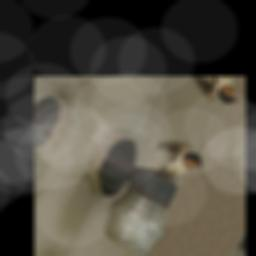Swallow: (144, 129, 210, 191)
